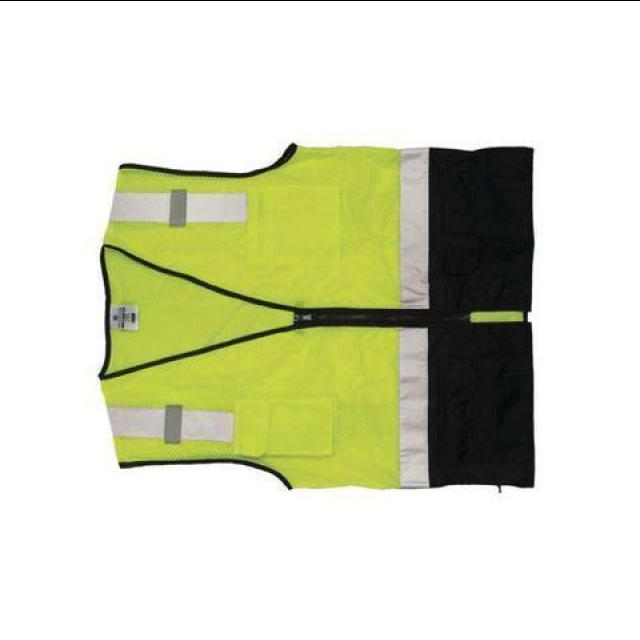jacket: (70, 112, 538, 506)
